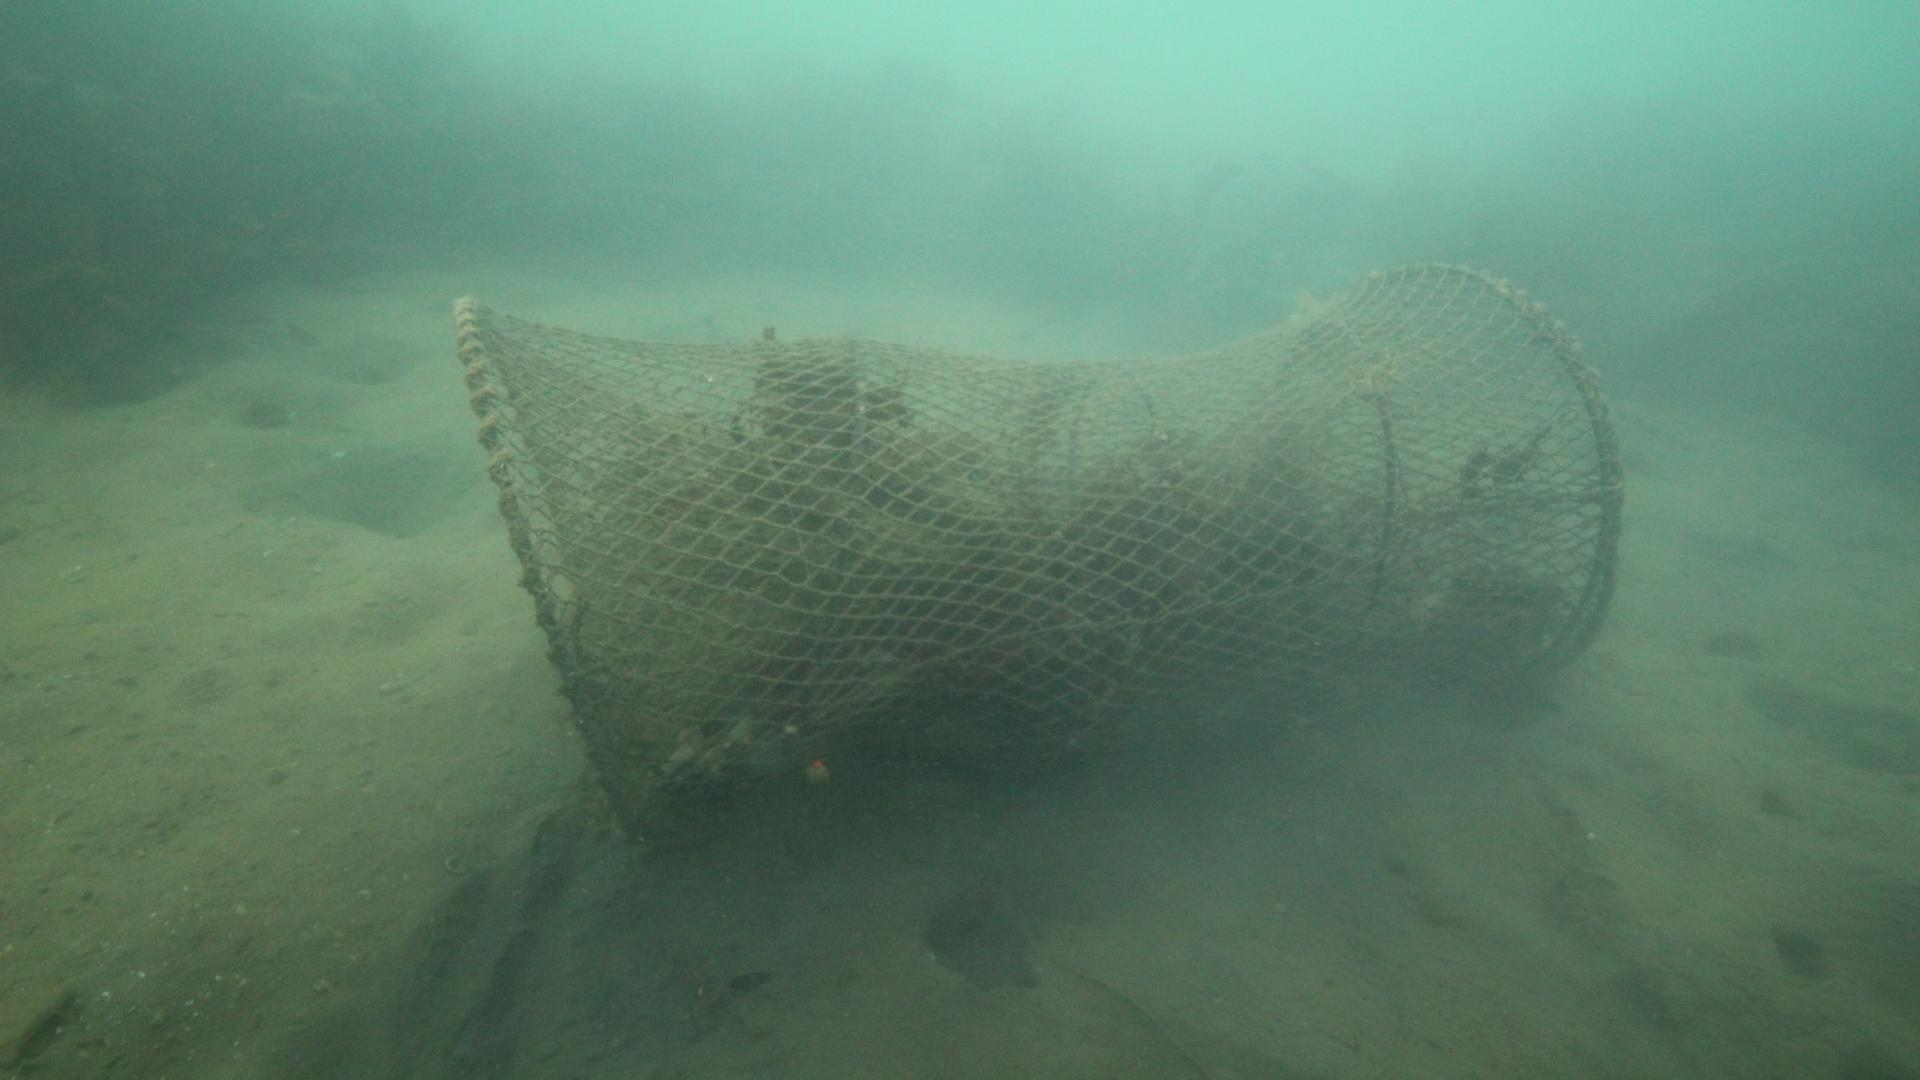spring fish trap: (450, 261, 1622, 839)
